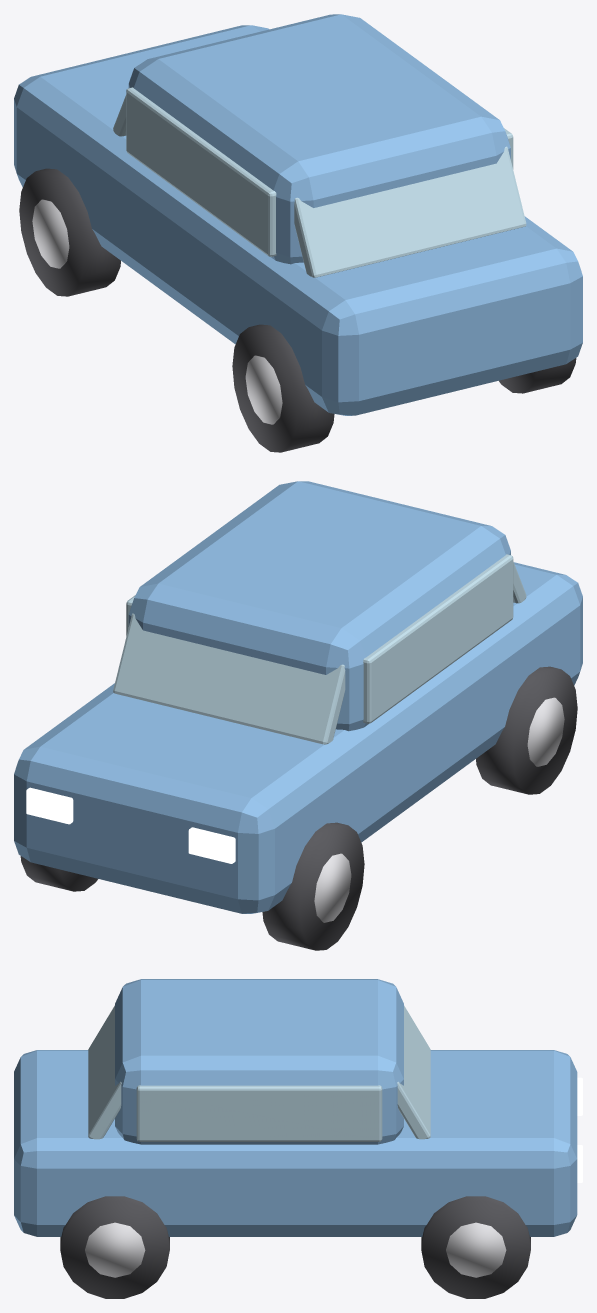
Rendered from car.glb.
The picture shows the model from 3 angles, top to bottom: view 1: azimuth 30°, elevation 25°; view 2: azimuth 150°, elevation 25°; view 3: azimuth 270°, elevation 25°; orthographic projection. The views are drawn at different scales.
Visible parts, largest first — view 1: bodyMain, bodyCabin, glassB, glassS2, wheel3, wheel1, wheel3_hub, wheel1_hub, wheel2; view 2: bodyMain, bodyCabin, glassF, glassS2, wheel1, wheel3, wheel1_hub, wheel3_hub, hl2, hl1, wheel0; view 3: bodyMain, bodyCabin, glassS1, wheel0, wheel2, glassB, glassF, wheel2_hub, wheel0_hub.
Part boxes in pixels (bbox=[...]): bodyMain: bbox=[14, 25, 582, 415]; bodyCabin: bbox=[128, 14, 510, 264]; glassB: bbox=[294, 146, 526, 277]; glassS2: bbox=[126, 87, 276, 256]; wheel3: bbox=[232, 324, 334, 452]; wheel1: bbox=[19, 168, 120, 296]; wheel3_hub: bbox=[245, 355, 282, 424]; wheel1_hub: bbox=[32, 199, 69, 268]; wheel2: bbox=[499, 358, 576, 393]; bodyMain: bbox=[14, 562, 582, 913]; bodyCabin: bbox=[128, 481, 510, 731]; glassF: bbox=[113, 613, 345, 744]; glassS2: bbox=[363, 554, 513, 723]; wheel1: bbox=[262, 822, 364, 950]; wheel3: bbox=[476, 666, 577, 794]; wheel1_hub: bbox=[314, 853, 351, 922]; wheel3_hub: bbox=[527, 697, 564, 766]; hl2: bbox=[188, 827, 235, 863]; hl1: bbox=[26, 787, 73, 824]; wheel0: bbox=[20, 856, 97, 891]; bodyMain: bbox=[14, 1050, 577, 1236]; bodyCabin: bbox=[115, 979, 403, 1144]; glassS1: bbox=[136, 1085, 382, 1141]; wheel0: bbox=[421, 1196, 530, 1298]; wheel2: bbox=[60, 1196, 169, 1298]; glassB: bbox=[88, 1005, 121, 1139]; glassF: bbox=[397, 1005, 430, 1139]; wheel2_hub: bbox=[85, 1222, 145, 1277]; wheel0_hub: bbox=[446, 1222, 506, 1277].
Bounding box in the file's own units: 1.92 × 1.7 × 3.94.
